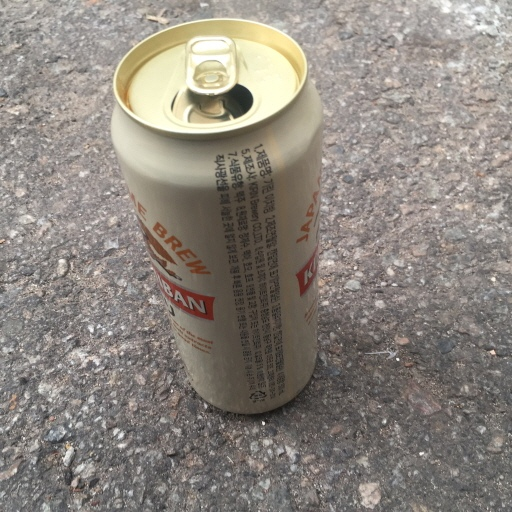Metal_0: (108, 17, 325, 418)
